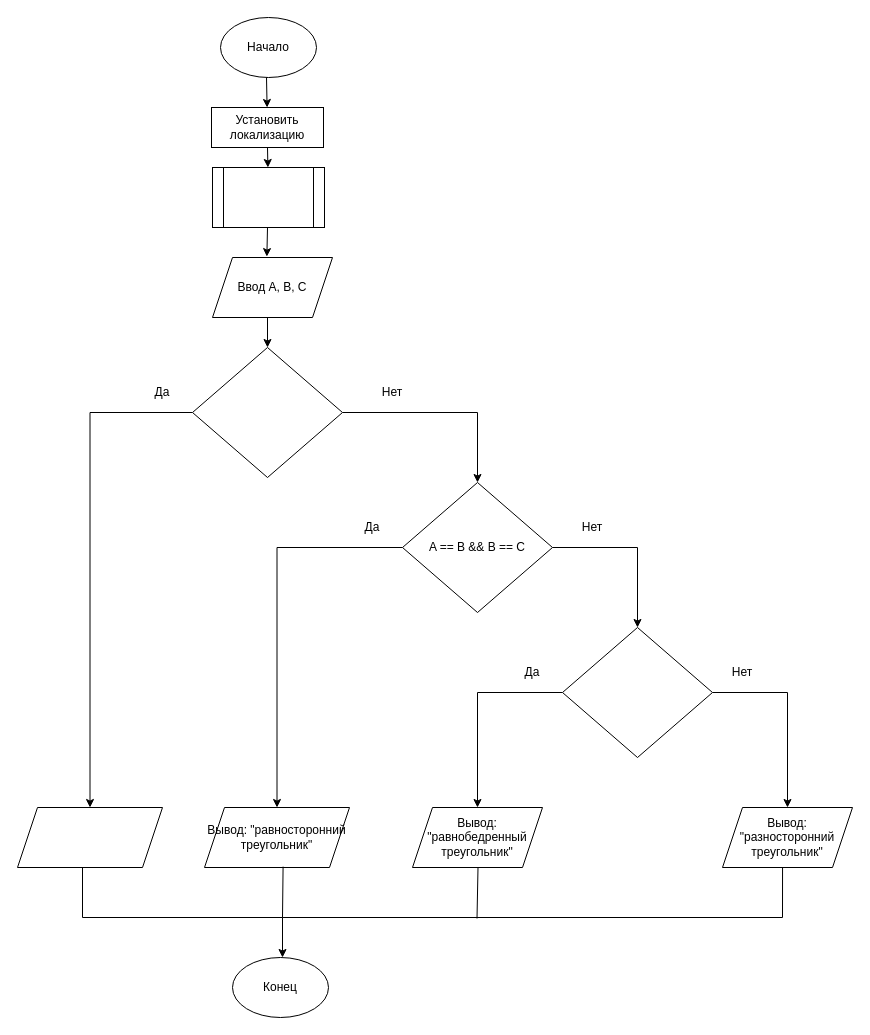
The diagram is 870 pixels wide and 1035 high, and some of its shapes have lost their labels. The centre of each missing label's shape, as x and y in pixels:
A + B <= C || A + C <= B || B + C <= A: pixel 267 412
A == B || A == C || B == C: pixel 637 692
Вывод: "не треугольник": pixel 89 837
Вызов функции zadanie3(): pixel 268 197
